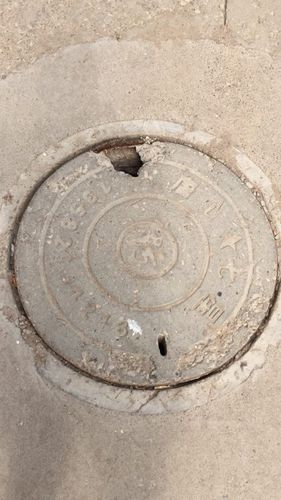broke: (4, 112, 279, 411)
